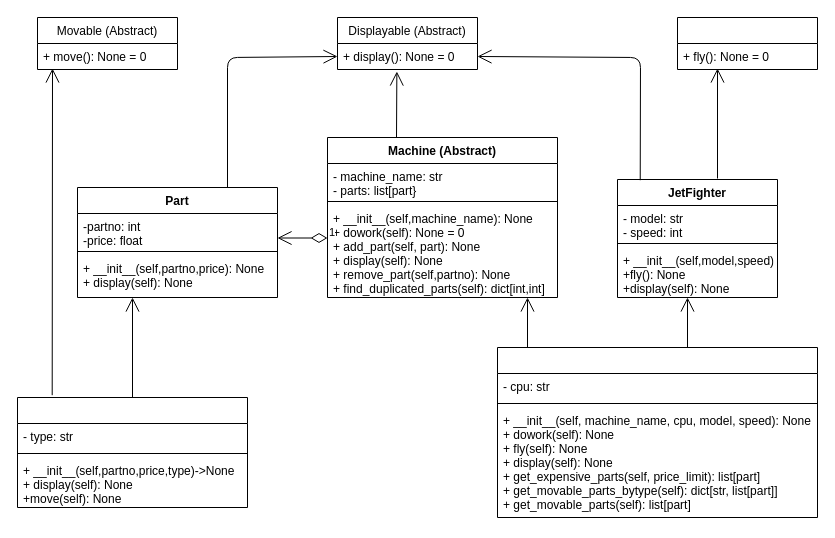
Image size: 835x538. Some labels were removed from this diagram. The box of each missing label's shape, as (x1, y1, x2, y2) in pixels:
Flyable (Abstract): (676, 16, 818, 70)
MovablePart: (16, 396, 248, 508)
Robot: (496, 346, 818, 518)
